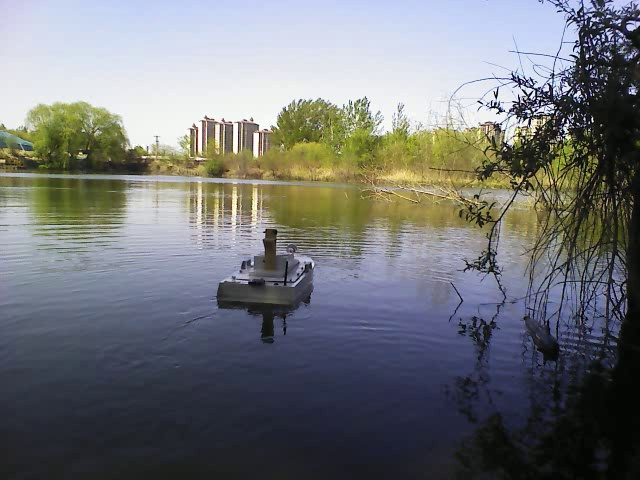boat: (215, 243, 322, 308)
